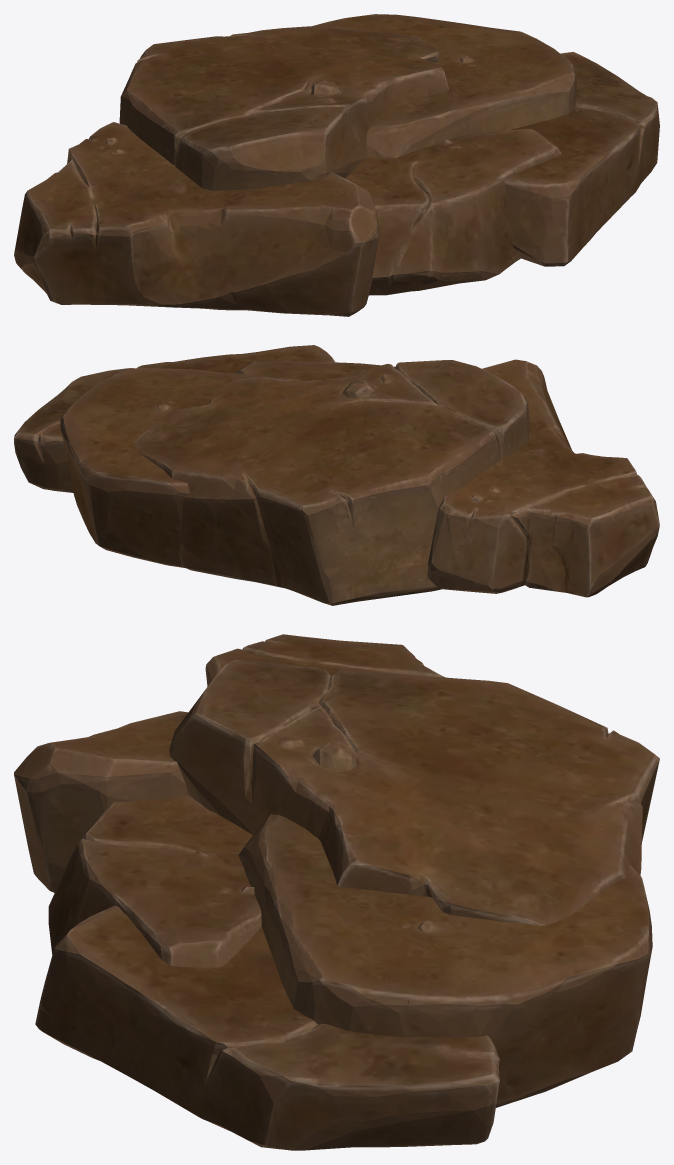
3 views of the same model, one above another, from view 1: azimuth 30°, elevation 25°; view 2: azimuth 150°, elevation 25°; view 3: azimuth 270°, elevation 25° (orthographic). The views are drawn at different scales.
Parts seen in each view (by area): view 1: SM_Mining_Node_Medium_Clay_02_LOD0; view 2: SM_Mining_Node_Medium_Clay_02_LOD0; view 3: SM_Mining_Node_Medium_Clay_02_LOD0.
Boxes of the visible parts, <box> form: SM_Mining_Node_Medium_Clay_02_LOD0: <box>14,14,659,316</box>; SM_Mining_Node_Medium_Clay_02_LOD0: <box>14,345,659,605</box>; SM_Mining_Node_Medium_Clay_02_LOD0: <box>14,634,659,1150</box>.
Bounding box in the file's own units: 4.02 × 0.9135 × 2.6.
1 material, 1 textured.
